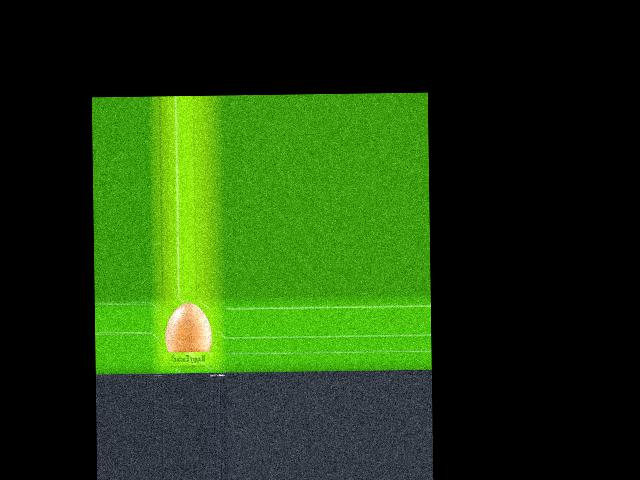egg: (164, 302, 211, 352)
